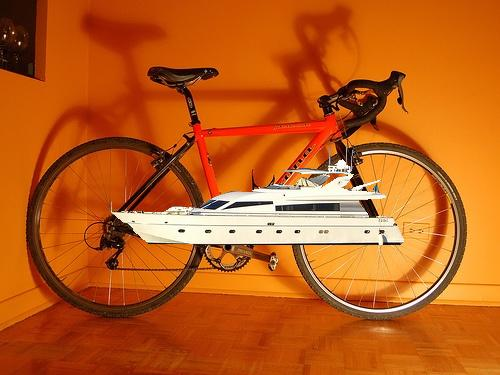tampered: (112, 145, 404, 245)
